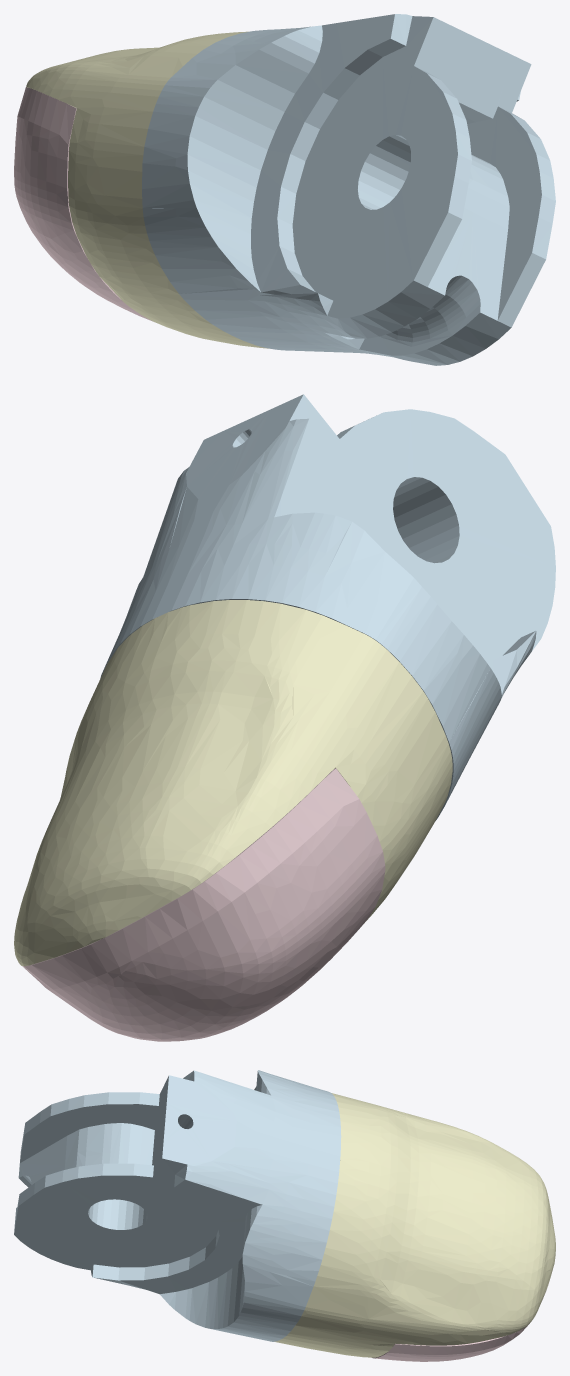
File: i02_leftHand_pinkyTip_visual.obj.balanced.glb
3 views of the same model, one above another, from view 1: azimuth 30°, elevation 25°; view 2: azimuth 150°, elevation 25°; view 3: azimuth 270°, elevation 25° (orthographic). The views are drawn at different scales.
Bounding box in the file's own units: 0.1654 × 0.1995 × 0.326.
